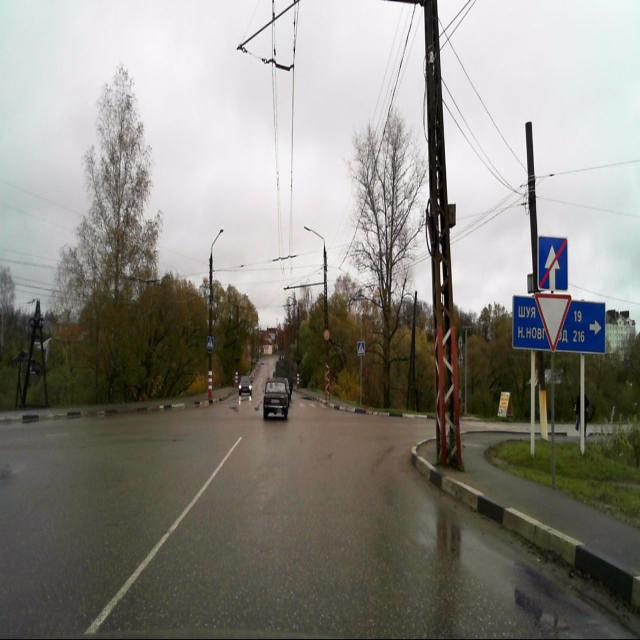road sign: (534, 292, 571, 353), (538, 236, 568, 293)
